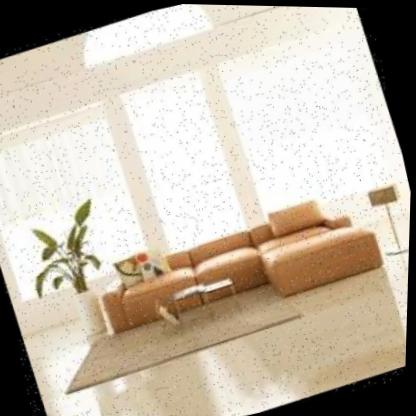Sofa: (45, 151, 413, 390)
